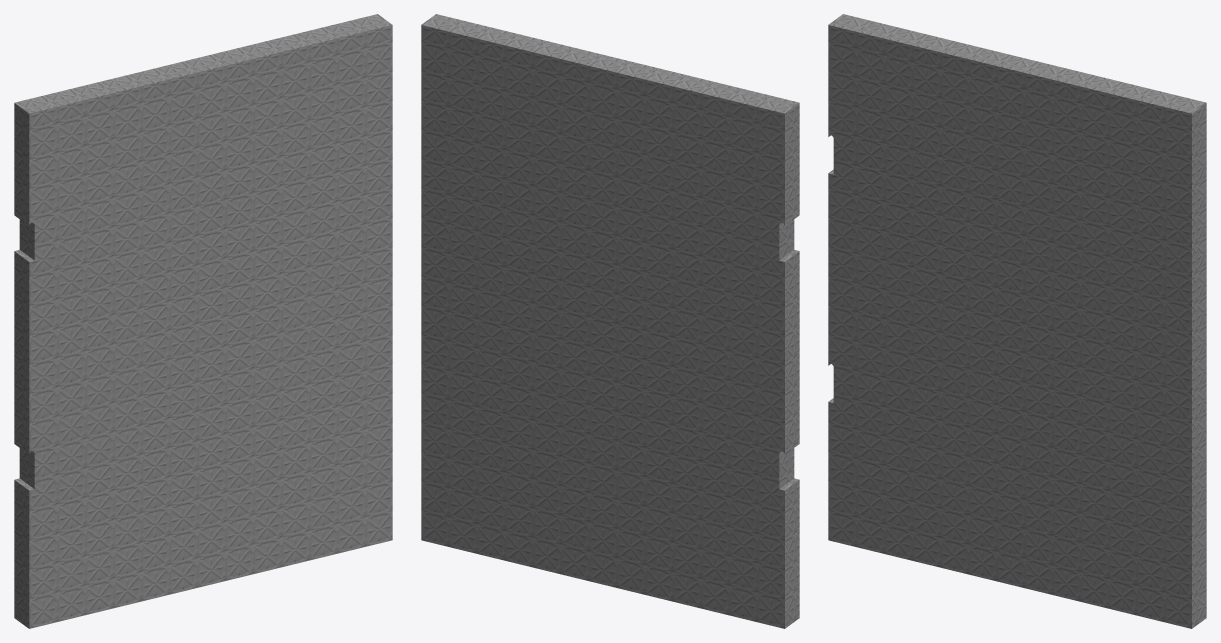
The model's file is board.dae.
3 views of the same model, side by side, from view 1: azimuth 30°, elevation 25°; view 2: azimuth 150°, elevation 25°; view 3: azimuth 330°, elevation 25° (orthographic).
Parts seen in each view (by area): view 1: group_1/ID26#ID26.001; view 2: group_1/ID26#ID26.001; view 3: group_1/ID26#ID26.001.
Boxes of the visible parts, x1=… form: group_1/ID26#ID26.001: x1=14, y1=14, x2=392, y2=628; group_1/ID26#ID26.001: x1=421, y1=14, x2=799, y2=628; group_1/ID26#ID26.001: x1=828, y1=14, x2=1206, y2=628.
Size of the model in its own units: 0.8466 by 0.0605 by 1.15.
Materials: 1 (1 with a texture image).
